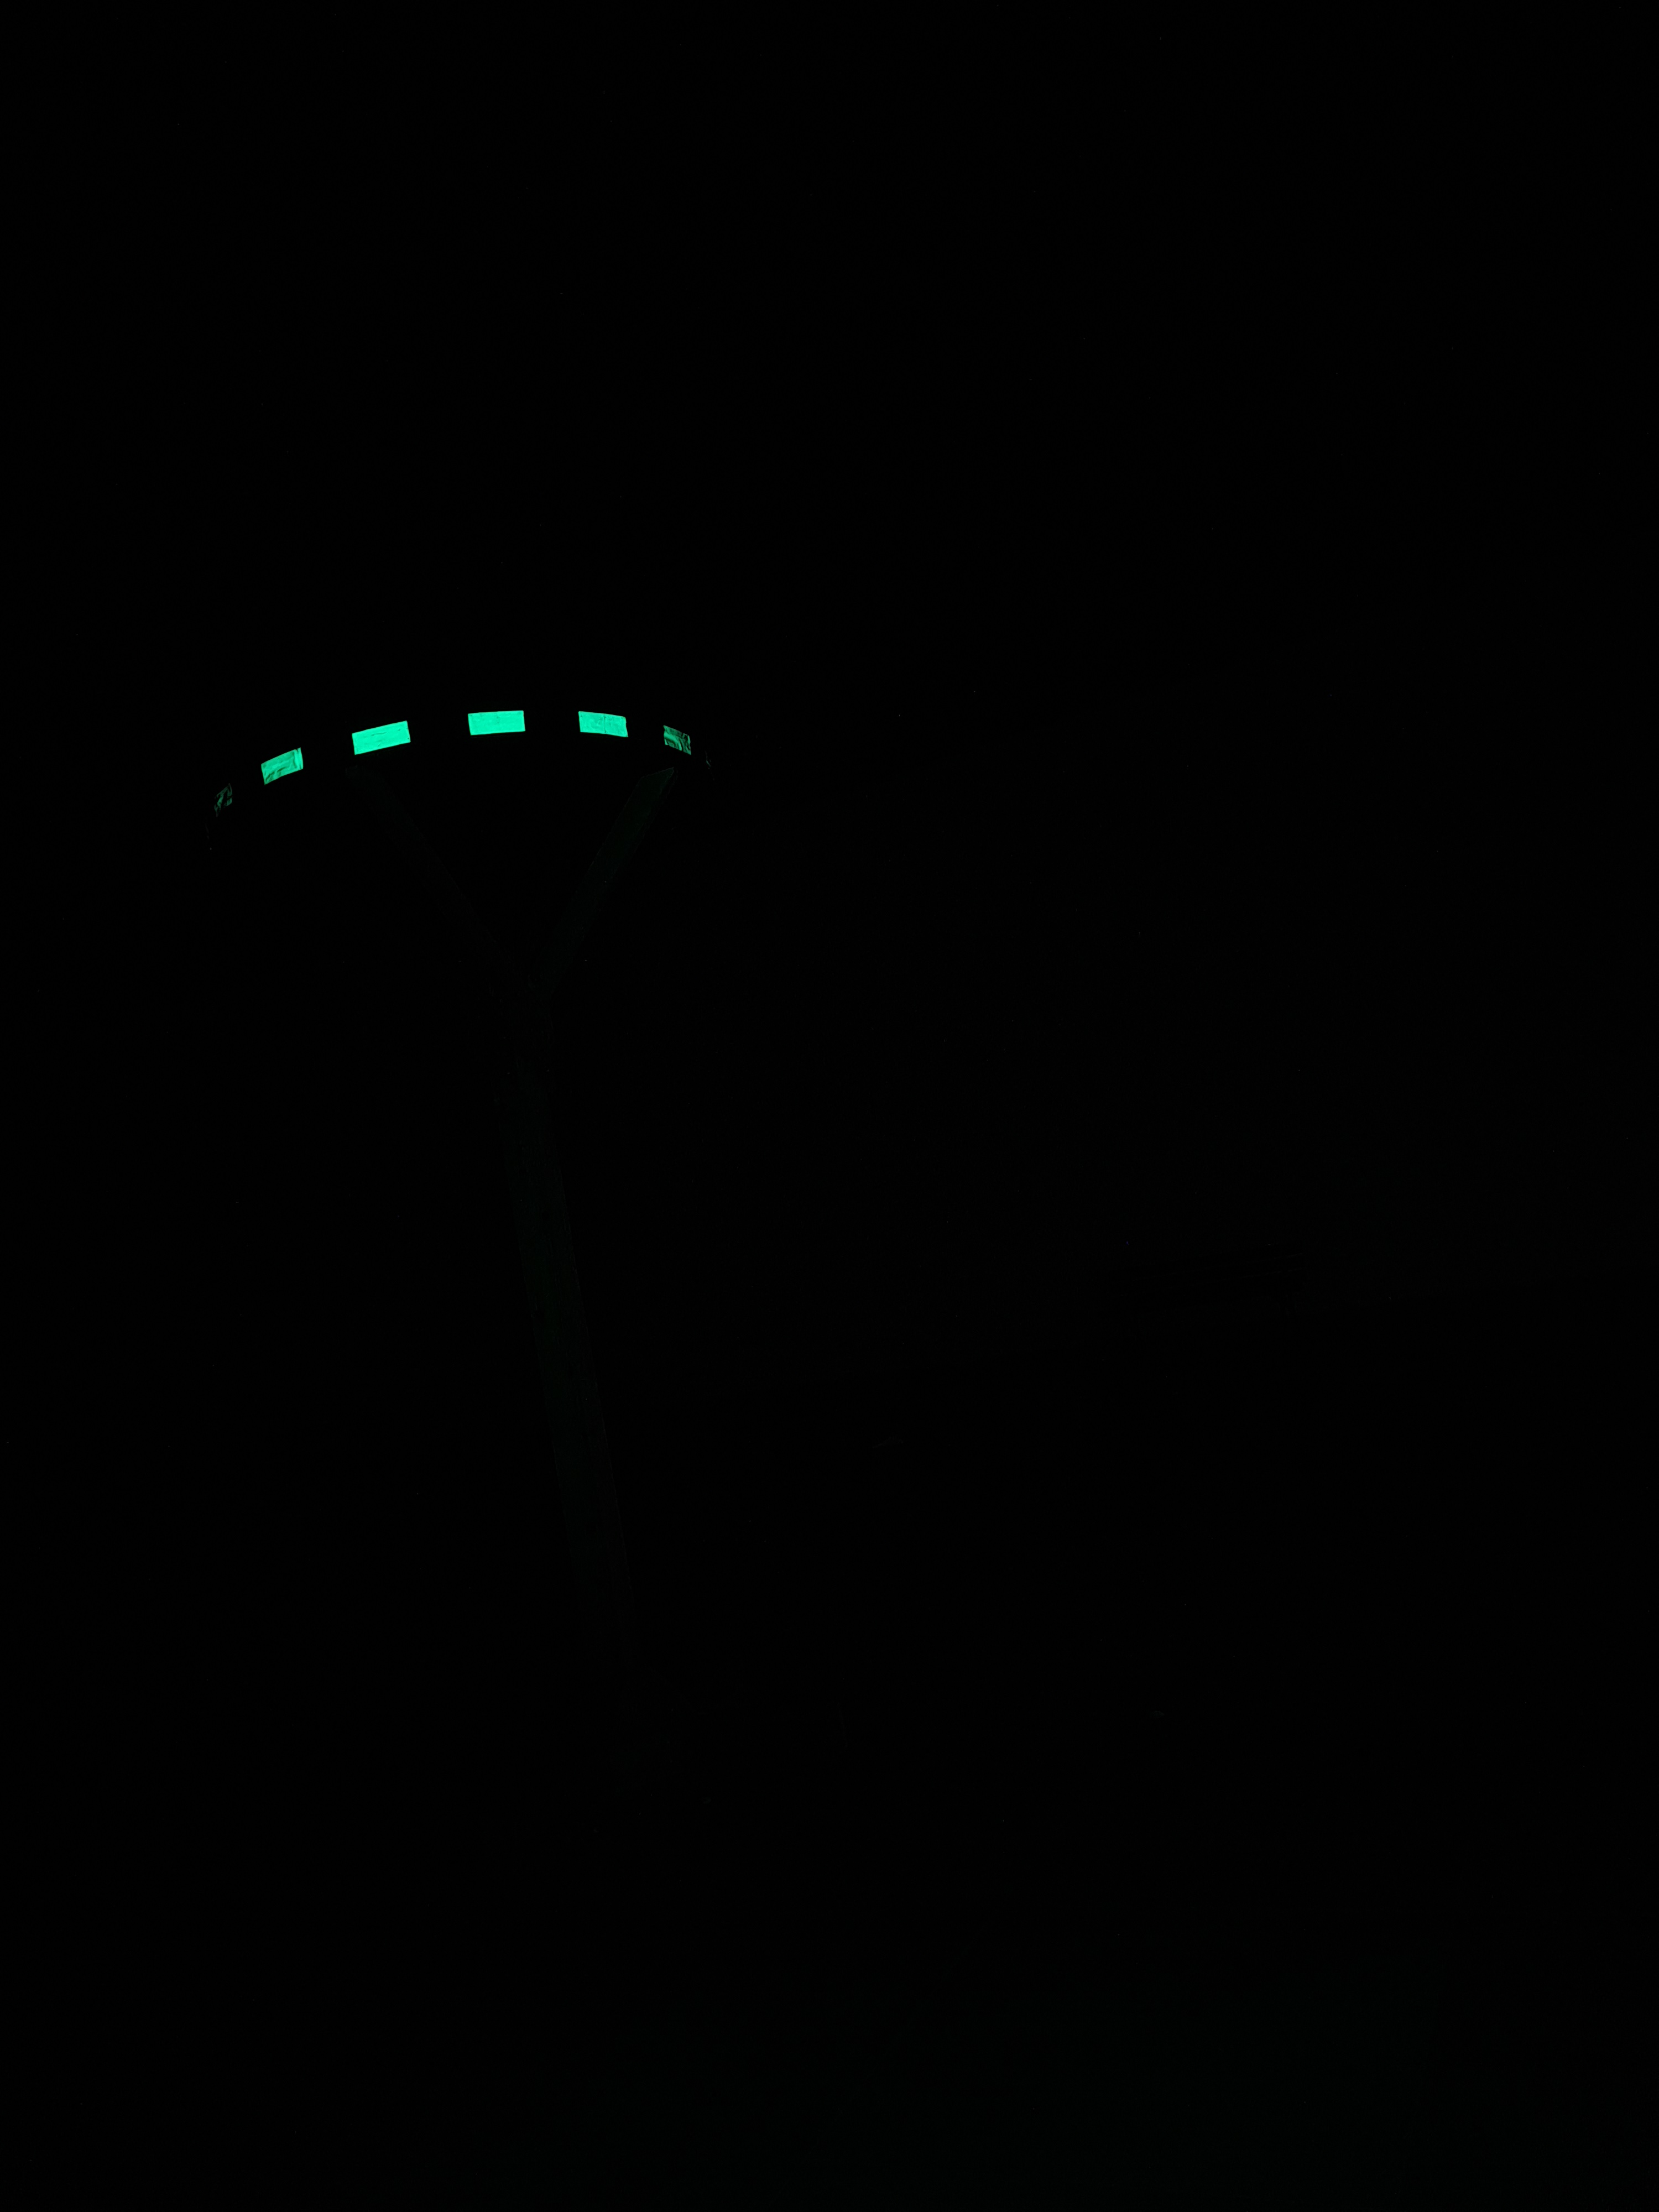hoop: (207, 705, 699, 817)
